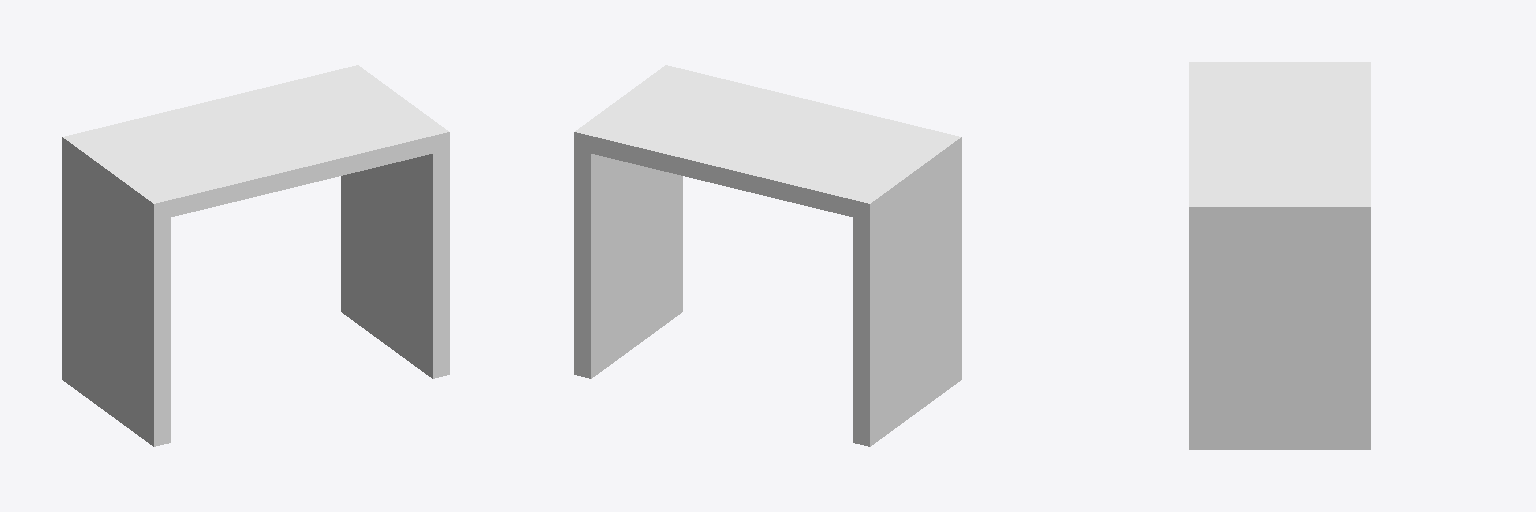
The model's file is table.obj.
3 views of the same model, side by side, from view 1: azimuth 30°, elevation 25°; view 2: azimuth 150°, elevation 25°; view 3: azimuth 270°, elevation 25° (orthographic).
Visible parts, largest first — view 1: Layer:M_Platte_Weiss.001_Mesh.009; view 2: Layer:M_Platte_Weiss.001_Mesh.009; view 3: Layer:M_Platte_Weiss.001_Mesh.009.
Boxes of the visible parts, x1,y1,x2,y2 form: Layer:M_Platte_Weiss.001_Mesh.009: [62, 65, 449, 446]; Layer:M_Platte_Weiss.001_Mesh.009: [574, 65, 961, 446]; Layer:M_Platte_Weiss.001_Mesh.009: [1189, 62, 1370, 449].
Size of the model in its own units: 1.4 by 1.1 by 0.75.